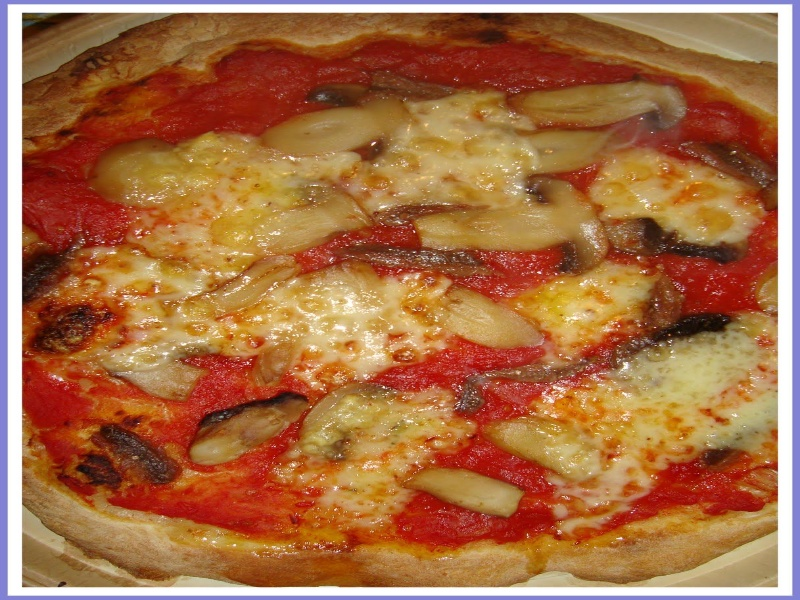champignon: (415, 172, 613, 288)
